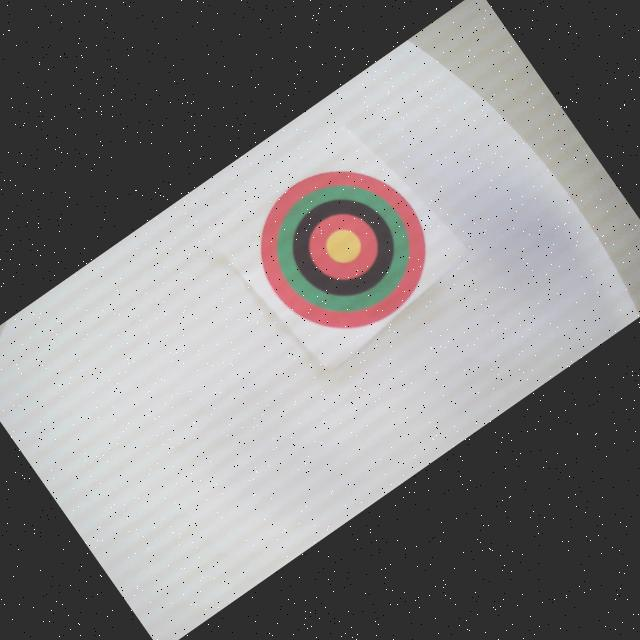COGNITIVE: (231, 136, 456, 361)
